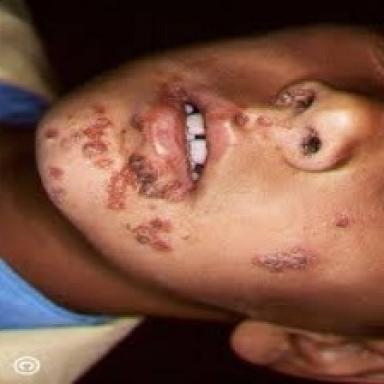Impetigo: (41, 71, 204, 213), (121, 213, 195, 258), (247, 244, 319, 275), (265, 82, 312, 110), (47, 167, 65, 207), (232, 111, 274, 127), (332, 212, 352, 228)
